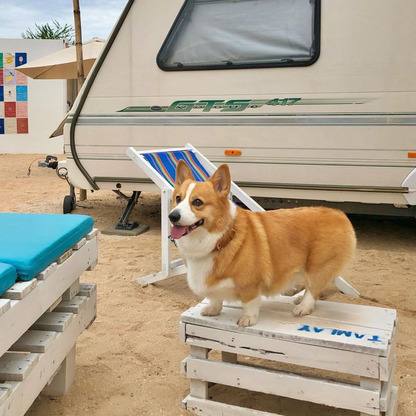Corgi: (160, 152, 369, 341)
